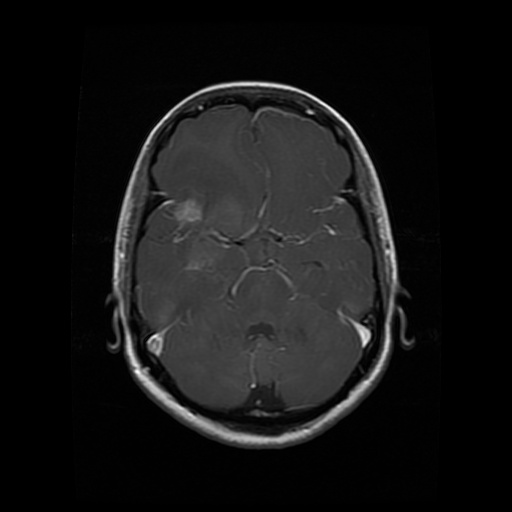glioma: (167, 192, 246, 273)
